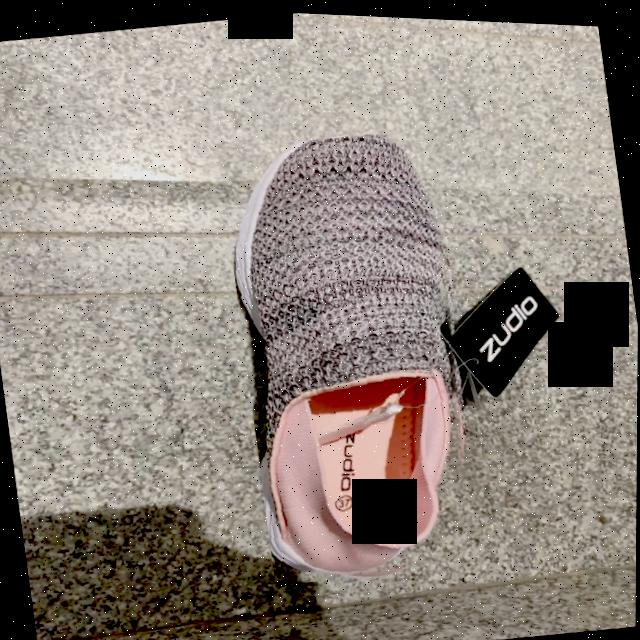shoe: (236, 131, 457, 574)
